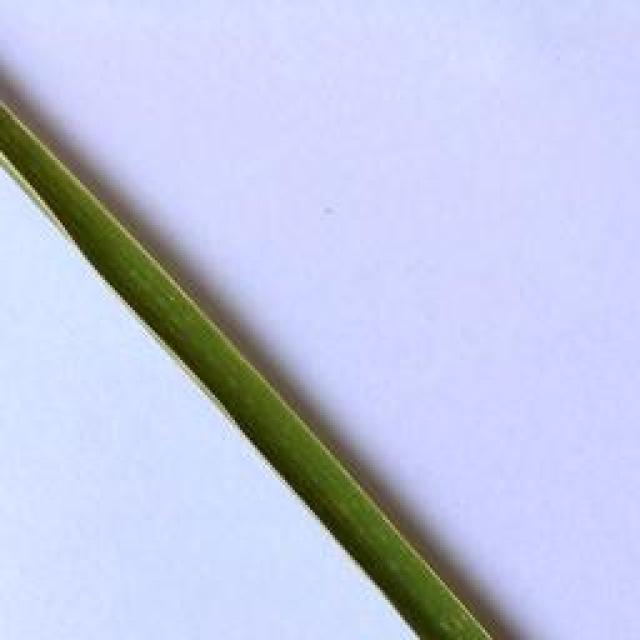Bacterial_Blight: (0, 90, 124, 237), (110, 212, 222, 337), (0, 136, 56, 244)
